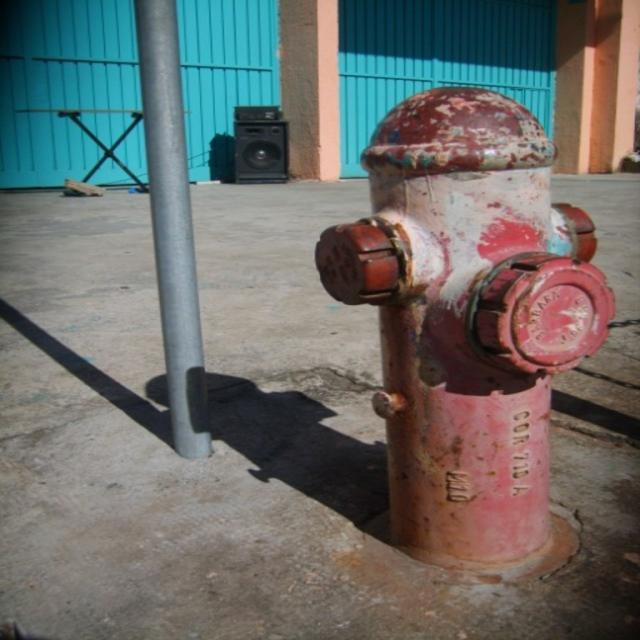fire_hydrant: (314, 87, 618, 567)
